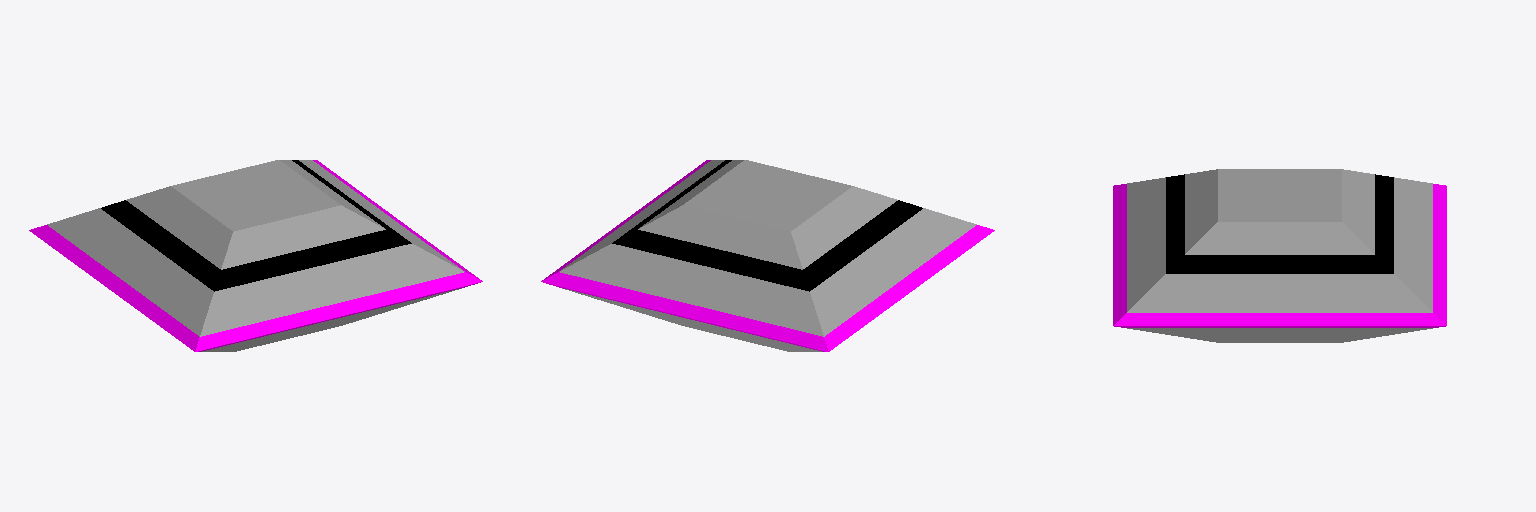
Rendered from ufo.obj.
3 renders of one model, left to right at view 1: azimuth 30°, elevation 25°; view 2: azimuth 150°, elevation 25°; view 3: azimuth 270°, elevation 25°, orthographic.
Visible parts, largest first — view 1: Cube.001; view 2: Cube.001; view 3: Cube.001.
Boxes of the visible parts, <box> form: Cube.001: <box>29,160,482,351</box>; Cube.001: <box>541,160,994,351</box>; Cube.001: <box>1113,169,1446,342</box>.
Size of the model in its own units: 4 by 1.6 by 4.